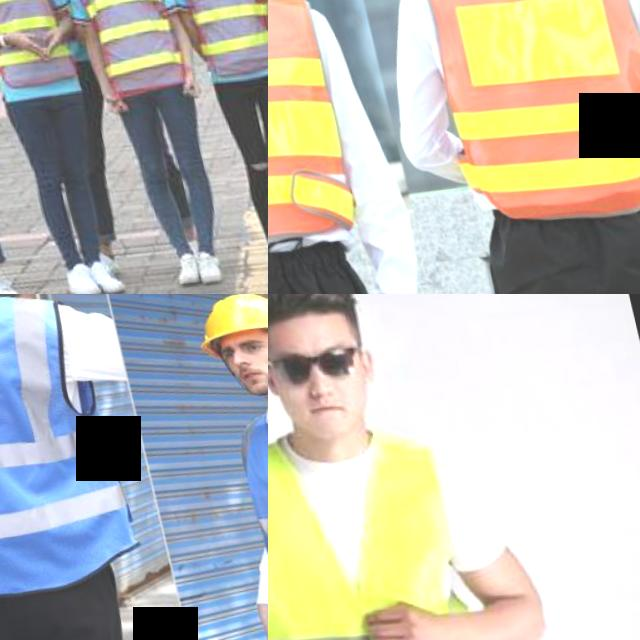vest: (268, 400, 509, 640), (403, 0, 640, 214), (0, 294, 129, 612), (268, 0, 369, 271), (226, 368, 268, 632), (75, 0, 193, 82), (0, 0, 81, 97), (172, 0, 268, 61)
